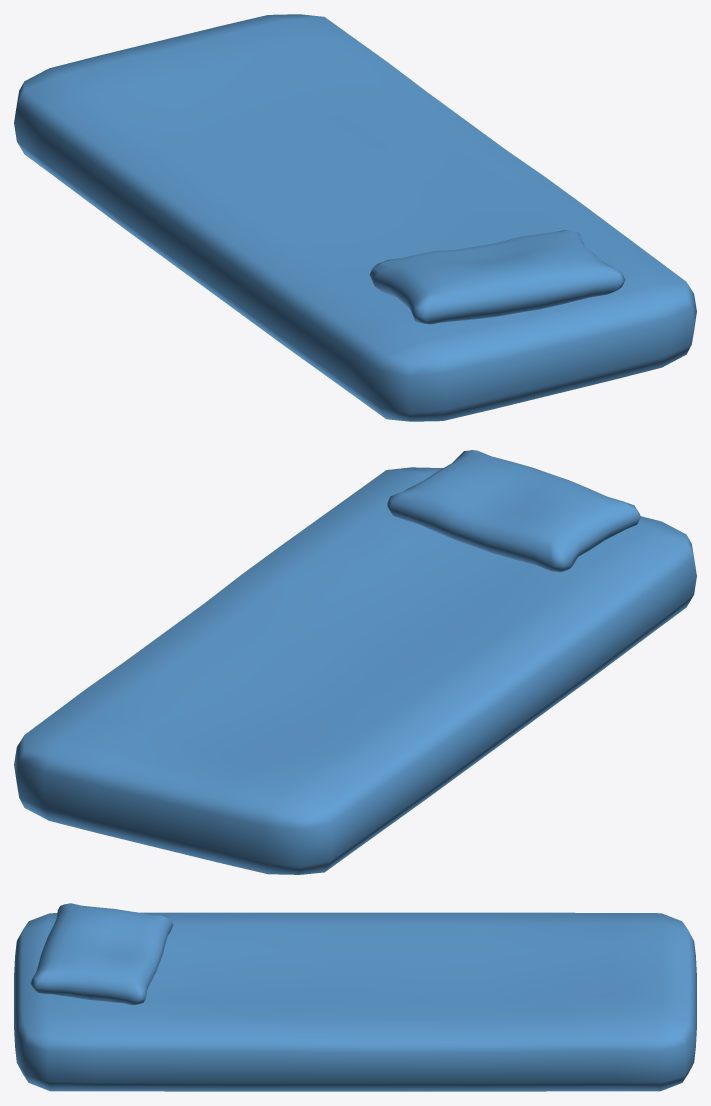
The model's file is Bed.fbx.
The picture shows the model from 3 angles, top to bottom: view 1: azimuth 30°, elevation 25°; view 2: azimuth 150°, elevation 25°; view 3: azimuth 270°, elevation 25°; orthographic projection. The views are drawn at different scales.
Visible parts, largest first — view 1: bed; view 2: bed; view 3: bed.
Boxes of the visible parts, <box> form: bed: <box>14,14,696,421</box>; bed: <box>14,450,696,874</box>; bed: <box>14,903,696,1091</box>.
Size of the model in its own units: 40.23 by 13.47 by 86.95.
